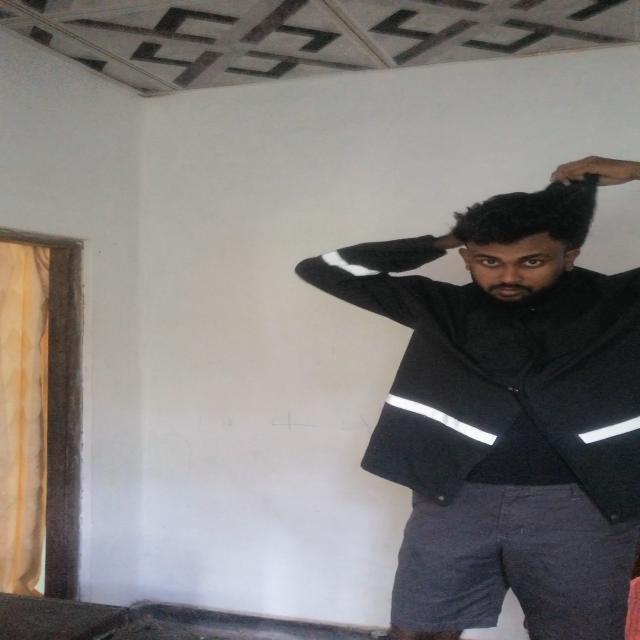Jacket_Wearer: (272, 224, 640, 508)
